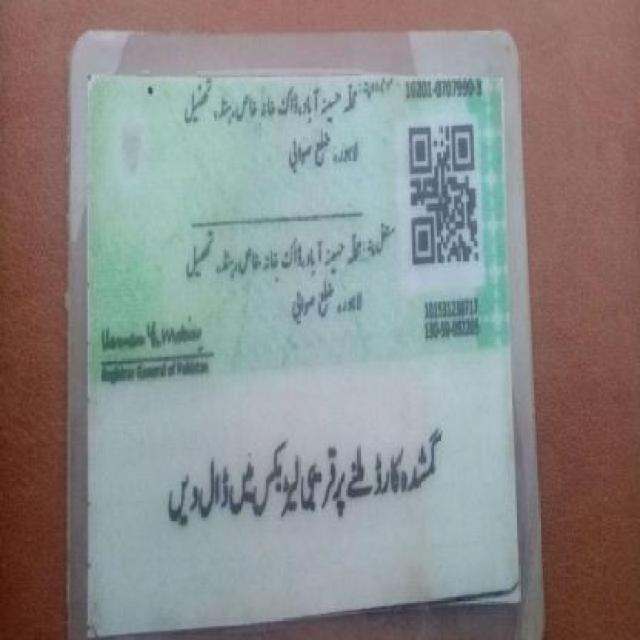Back: (75, 65, 523, 624)
